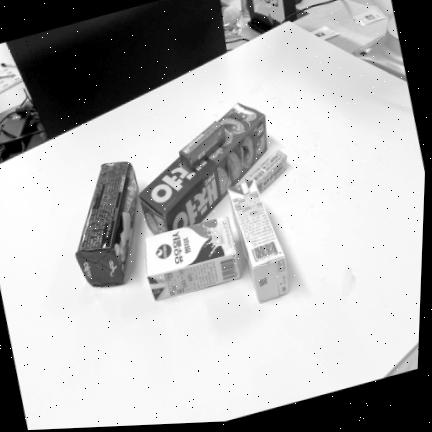cracker_ace: (76, 162, 139, 287)
cracker_vege: (139, 103, 268, 235)
gum_green: (179, 122, 226, 172)
gum_yellow: (245, 150, 287, 193)
milk_blue: (146, 217, 240, 300)
milk_green: (228, 180, 289, 302)
